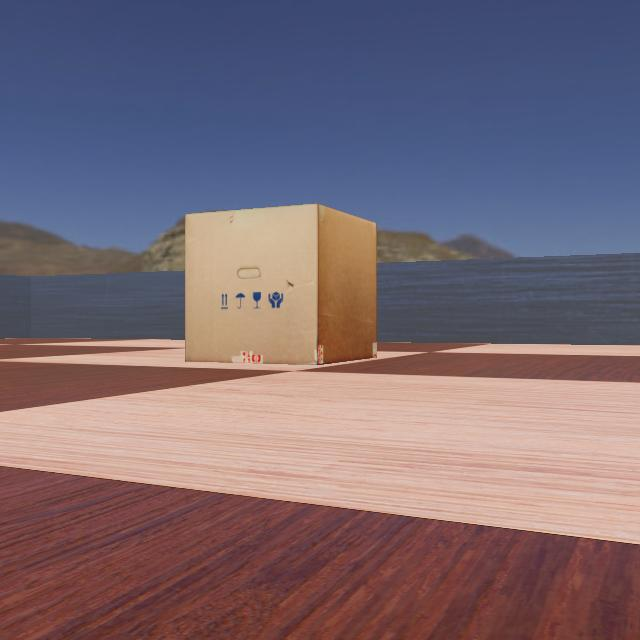cardboard-box: (171, 202, 387, 366)
